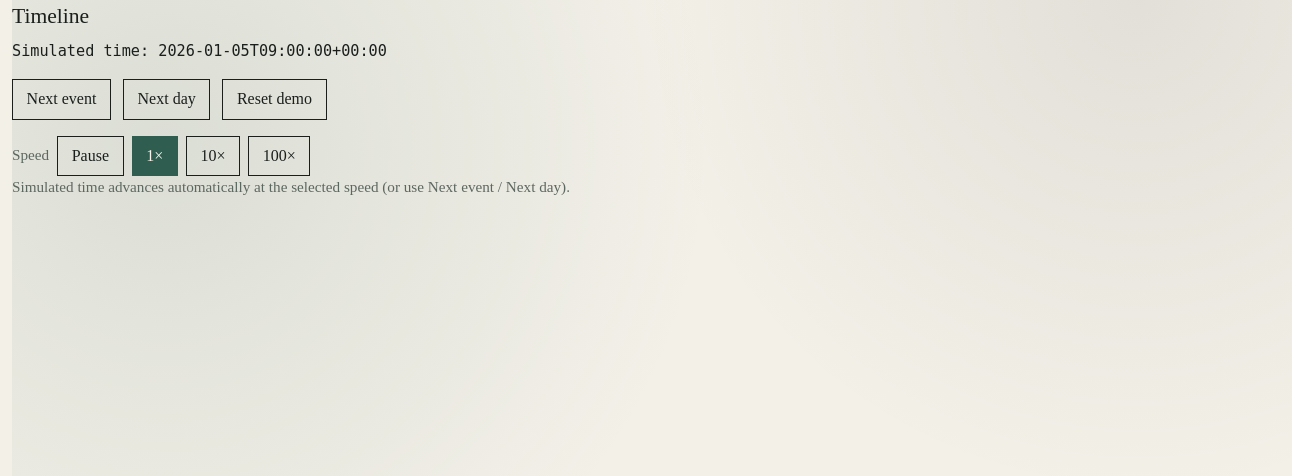
Scenario: TimelineControls › Reset demo confirms then POSTs /demo/reset and restores epoch time
Click the button "Reset demo": click(274, 99) x1=222 y1=79 x2=327 y2=120
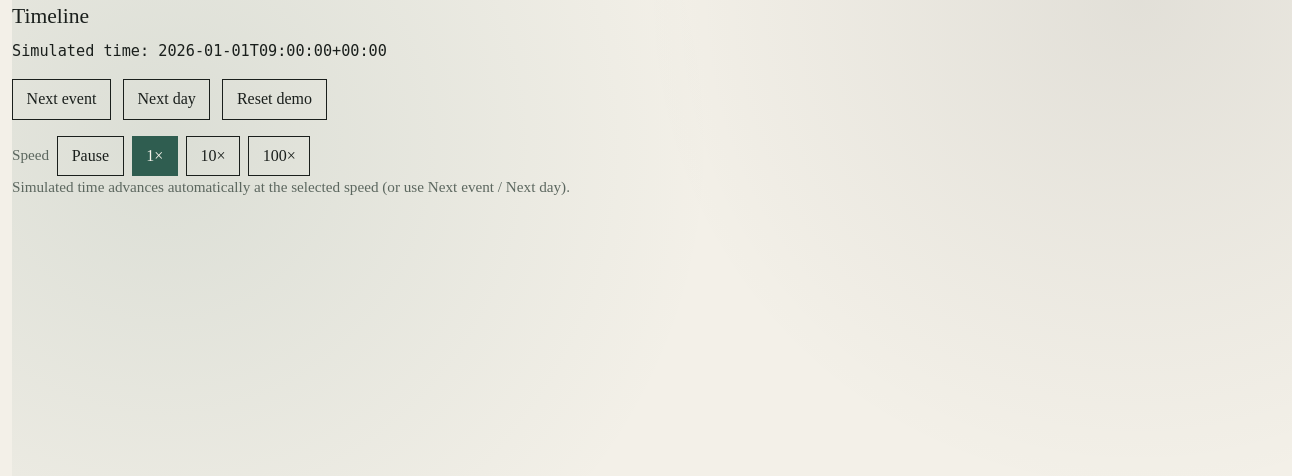
Expected: the element with test id "simulated-time" shows "2026-01-01T09:00:00+00:00", x1=158 y1=42 x2=387 y2=60
